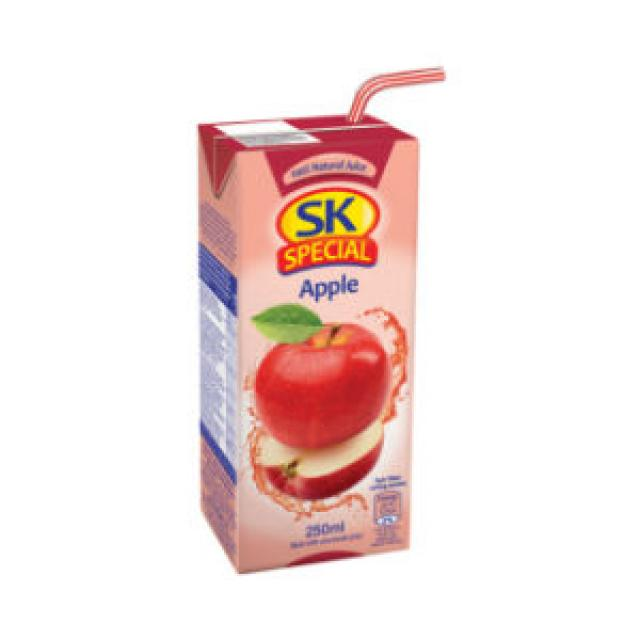non_white_jug: (184, 98, 426, 568)
